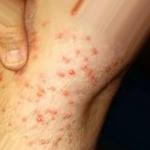Ants: (83, 66, 100, 86), (50, 130, 63, 150), (35, 88, 46, 98), (61, 88, 71, 98), (60, 56, 71, 65), (67, 132, 74, 145), (47, 106, 56, 116), (89, 46, 98, 56), (84, 34, 94, 43), (39, 136, 50, 144), (35, 114, 44, 123), (62, 112, 71, 121), (72, 48, 81, 57), (62, 123, 71, 131), (55, 72, 65, 79), (56, 32, 65, 39), (81, 64, 88, 72), (68, 69, 75, 76), (81, 55, 88, 62)
